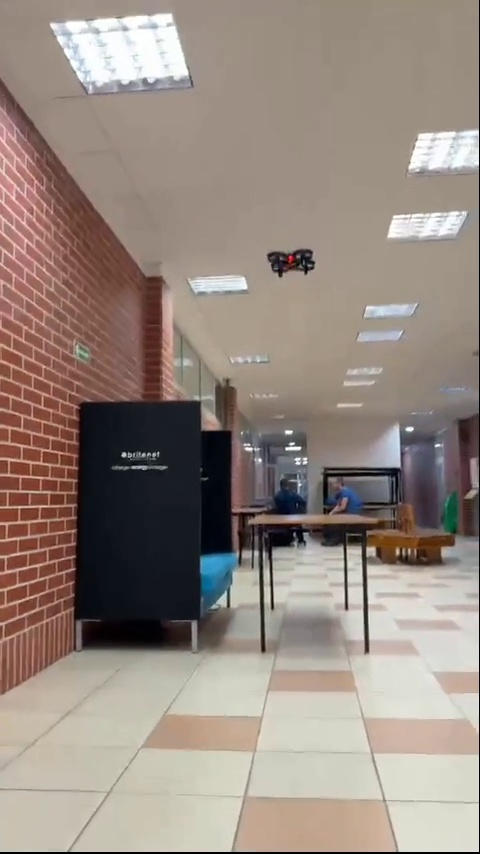drone: (266, 250, 319, 279)
no vest: (325, 473, 361, 518), (271, 473, 306, 517)
